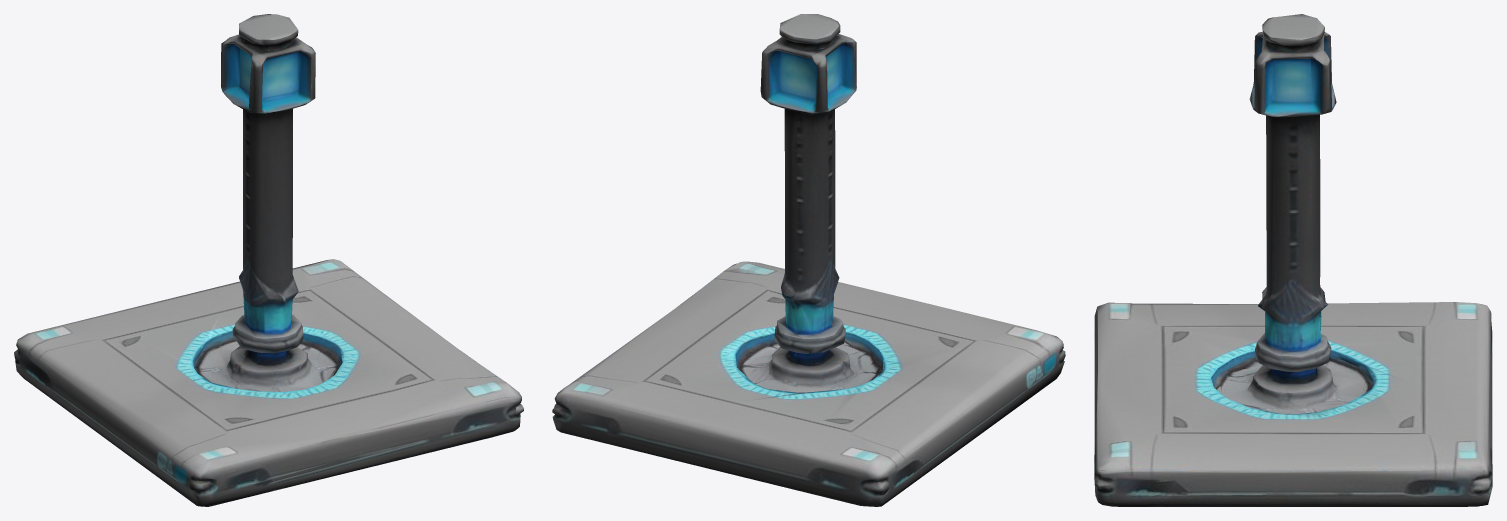
File: charger.glb
3 views of the same model, side by side, from view 1: azimuth 30°, elevation 25°; view 2: azimuth 150°, elevation 25°; view 3: azimuth 270°, elevation 25° (orthographic). The views are drawn at different scales.
Visible parts, largest first — view 1: charger; view 2: charger; view 3: charger.
Boxes of the visible parts, bbox=[...] form: charger: bbox=[14, 14, 523, 506]; charger: bbox=[552, 14, 1065, 506]; charger: bbox=[1094, 14, 1492, 506].
Bounding box in the file's own units: 0.9027 × 0.9863 × 0.8906.
1 material, 1 textured.
